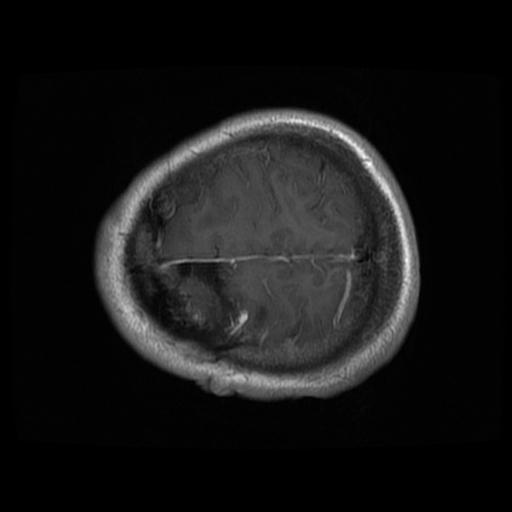glioma: (143, 261, 231, 348)
